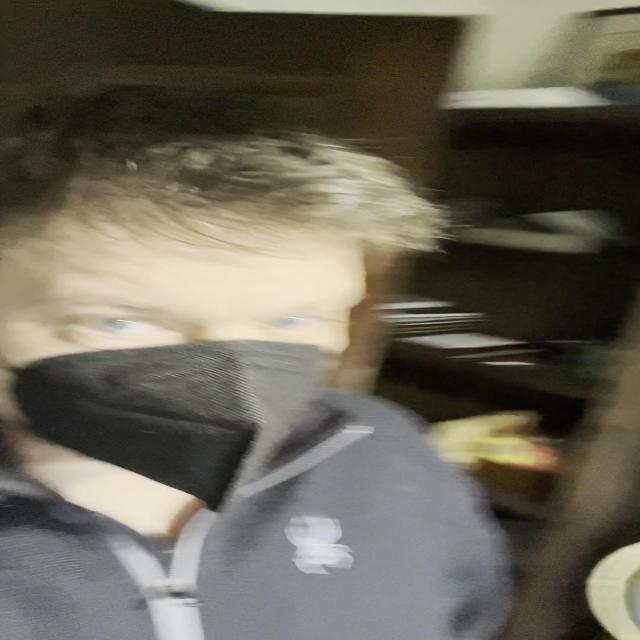no-helmet: (0, 216, 366, 512)
